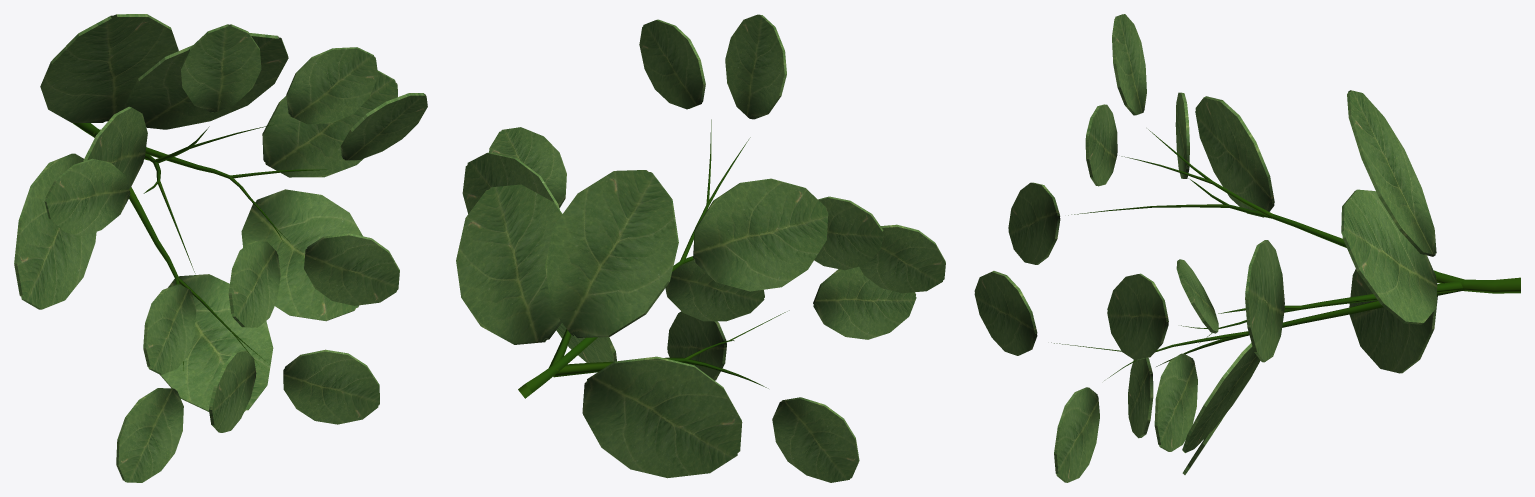
Rendered from plant11.obj.
The picture shows the model from 3 angles, left to right: view 1: azimuth 30°, elevation 25°; view 2: azimuth 150°, elevation 25°; view 3: azimuth 270°, elevation 25°; orthographic projection. The views are drawn at different scales.
Visible parts, largest first — view 1: leaves.019, tree.019; view 2: leaves.019, tree.019; view 3: leaves.019, tree.019.
Boxes of the visible parts, box(x1,y1,x2,y2) form: leaves.019: box(14, 14, 427, 482); tree.019: box(72, 123, 326, 370); leaves.019: box(456, 14, 945, 482); tree.019: box(518, 119, 789, 398); leaves.019: box(974, 14, 1437, 482); tree.019: box(1051, 129, 1520, 380).
Bounding box in the file's own units: 0.1529 × 0.1671 × 0.1818.
Materials: 2 (2 with a texture image).
